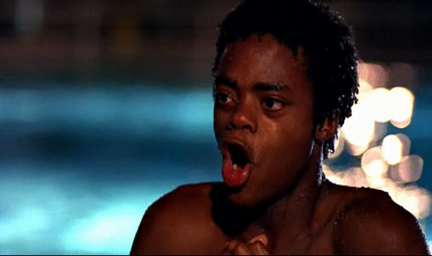cu: (1, 1, 432, 256)
face: (213, 57, 302, 215)
person: (129, 1, 432, 256)
